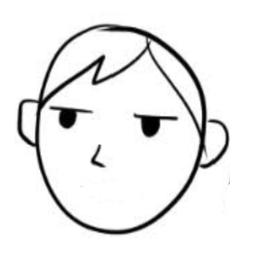ear: (204, 111, 234, 169), (14, 95, 42, 151)
eye: (122, 106, 181, 140), (50, 103, 90, 134)
pointy_nose: (88, 141, 109, 172)
